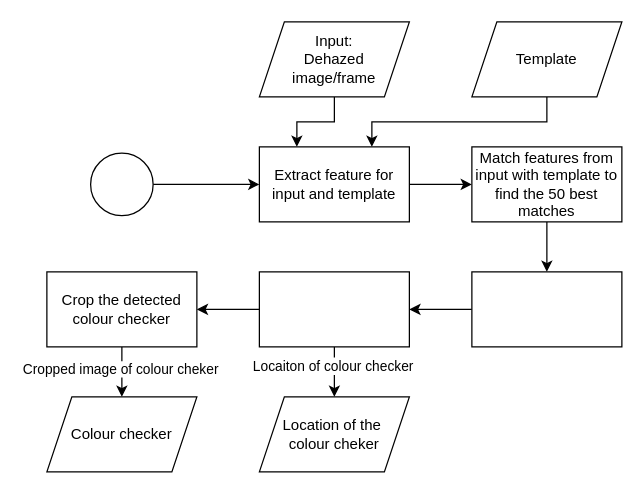
Some shapes in this 644 by 494 pixel diagram are drawn without their labels. The centre of each missing label's shape, as x and y in pixels:
"Define corners of the detected colour checker" belongs at point (333, 309).
"Find homography ( perspective transformation )" belongs at point (546, 309).
"Start" belongs at point (121, 184).
